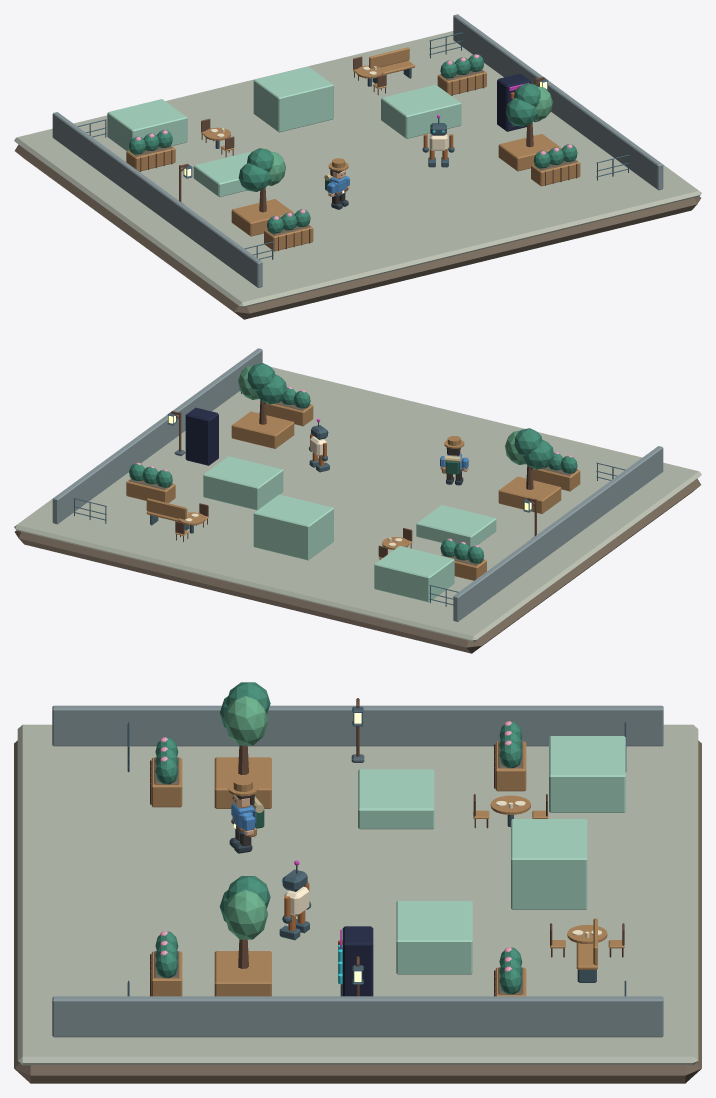
File: world-rooftop.glb
3 views of the same model, one above another, from view 1: azimuth 30°, elevation 25°; view 2: azimuth 150°, elevation 25°; view 3: azimuth 270°, elevation 25° (orthographic). The views are drawn at different scales.
Parts seen in each view (by area): view 1: terrain-top, terrain-stratum, parapet, parapet.001, parkour-platform.002, parkour-platform.001, parkour-platform.003, parkour-platform, planter, planter.001, vending-body.001, planter-body.002 (+6 smaller); view 2: terrain-top, terrain-stratum, parapet, parapet.001, parkour-platform.002, parkour-platform.003, parkour-platform.001, parkour-platform, vending-body.001, planter.001, planter, planter-body.004 (+8 smaller); view 3: terrain-top, parapet.001, parapet, terrain-stratum, parkour-platform.002, parkour-platform.003, parkour-platform.001, parkour-platform, planter.001, planter, vending-body.001, canopy.007 (+6 smaller).
Boxes of the visible parts, x1=… form: terrain-top: x1=14, y1=31, x2=701, y2=307; terrain-stratum: x1=15, y1=144, x2=700, y2=319; parapet: x1=52, y1=112, x2=262, y2=287; parapet.001: x1=453, y1=14, x2=663, y2=190; parkour-platform.002: x1=253, y1=66, x2=333, y2=132; parkour-platform.001: x1=381, y1=84, x2=461, y2=138; parkour-platform.003: x1=107, y1=99, x2=187, y2=150; parkour-platform: x1=193, y1=152, x2=250, y2=197; planter: x1=231, y1=199, x2=294, y2=236; planter.001: x1=498, y1=134, x2=561, y2=171; vending-body.001: x1=497, y1=73, x2=530, y2=131; planter-body.002: x1=531, y1=159, x2=580, y2=186; terrain-top: x1=14, y1=367, x2=701, y2=641; terrain-stratum: x1=15, y1=478, x2=700, y2=653; parapet: x1=453, y1=446, x2=663, y2=621; parapet.001: x1=52, y1=348, x2=262, y2=524; parkour-platform.002: x1=253, y1=494, x2=333, y2=560; parkour-platform.003: x1=374, y1=546, x2=454, y2=602; parkour-platform.001: x1=203, y1=456, x2=283, y2=510; parkour-platform: x1=416, y1=505, x2=496, y2=547; vending-body.001: x1=185, y1=407, x2=218, y2=465; planter.001: x1=231, y1=411, x2=294, y2=448; planter: x1=498, y1=476, x2=561, y2=513; planter-body.004: x1=126, y1=479, x2=175, y2=503; terrain-top: x1=17, y1=724, x2=698, y2=1065; parapet.001: x1=52, y1=996, x2=663, y2=1037; parapet: x1=52, y1=705, x2=663, y2=746; terrain-stratum: x1=14, y1=740, x2=701, y2=1083; parkour-platform.002: x1=511, y1=819, x2=587, y2=909; parkour-platform.003: x1=549, y1=736, x2=625, y2=812; parkour-platform.001: x1=396, y1=901, x2=472, y2=974; parkour-platform: x1=358, y1=769, x2=434, y2=829; planter.001: x1=214, y1=951, x2=271, y2=996; planter: x1=214, y1=757, x2=271, y2=808; vending-body.001: x1=342, y1=926, x2=373, y2=996; canopy.007: x1=224, y1=889, x2=267, y2=939.
Size of the model in its own units: 21 by 4.08 by 18.
